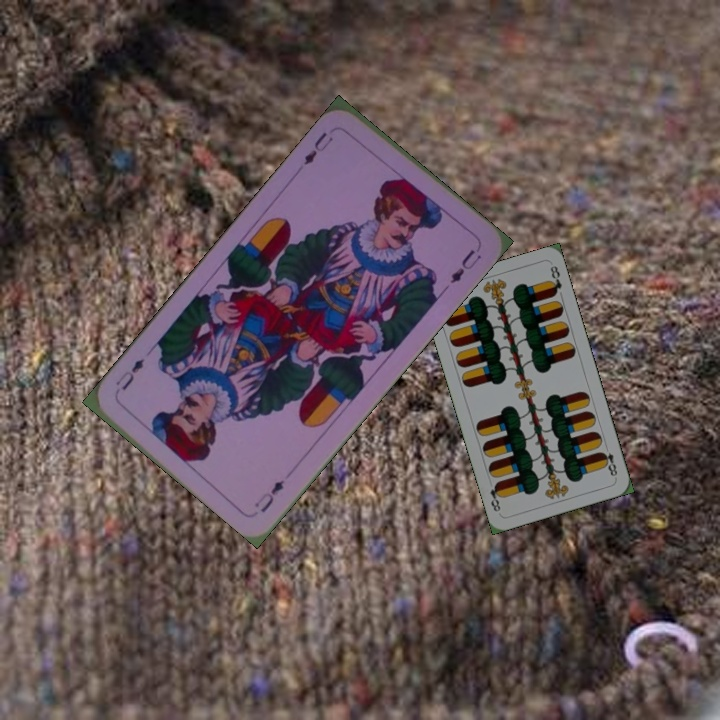E8: (597, 441, 620, 481)
EU: (299, 127, 336, 170), (249, 475, 287, 515)
